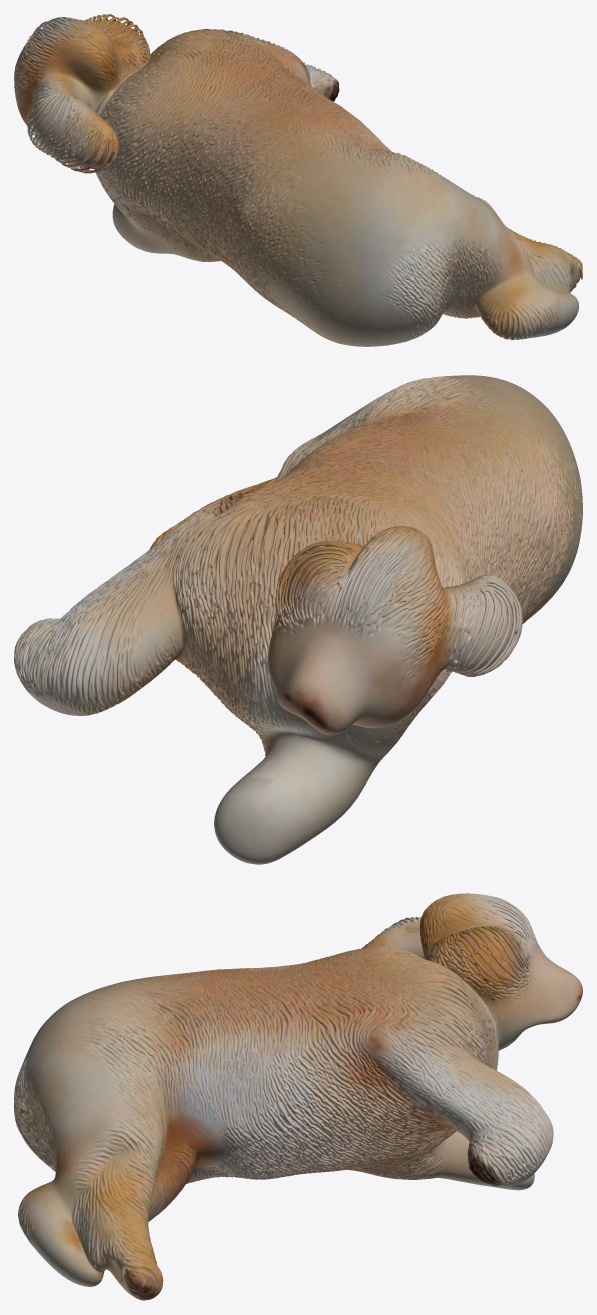
File: lev-small.glb
3 views of the same model, one above another, from view 1: azimuth 30°, elevation 25°; view 2: azimuth 150°, elevation 25°; view 3: azimuth 270°, elevation 25° (orthographic). The views are drawn at different scales.
Visible parts, largest first — view 1: material; view 2: material; view 3: material.
Boxes of the visible parts, bbox=[...] form: material: bbox=[14, 14, 582, 346]; material: bbox=[14, 375, 582, 864]; material: bbox=[14, 893, 582, 1300].
Bounding box in the file's own units: 0.8881 × 0.512 × 1.05.
1 material, 1 textured.
